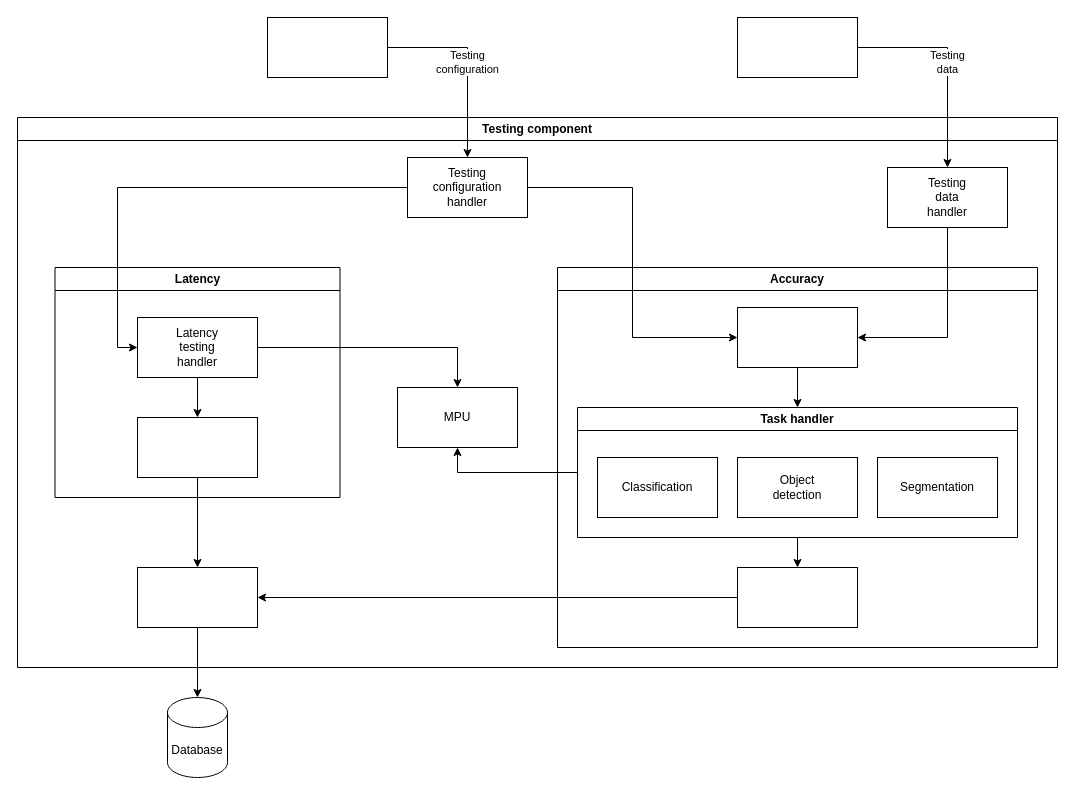
This 1075x795 diagram has some shape labels left out. The shapes that lost their labels are listed below. From the top down, each one's centre as x and y in pixels, then its label:
At point 327,47: "Configuration handler".
At point 797,47: "Download component".
At point 797,337: "Accuracy testing handler".
At point 197,447: "Latency results".
At point 197,597: "Testing results handler".
At point 797,597: "Accuracy results".
